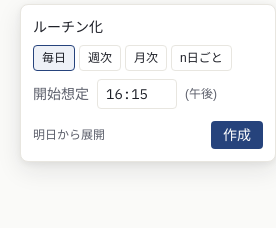
Test: RoutinizePopover（画面定義書01 §4.1 / O-12: 最小の入力でタスクからルーチンを作る） › 月次を選ぶと元タスクの日が既定で入る
The image size is (276, 228).
What coordinates should you click on to do the following:
click the button "月次"
I would click on:
 (146, 58)
Its box is [125,45,167,71].
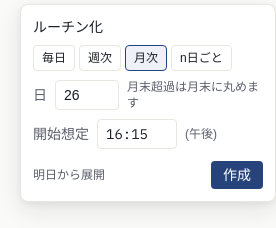
expect the number field labelled "日 月末超過は月末に丸めます" holds "26": met, box [55,80,119,110]
